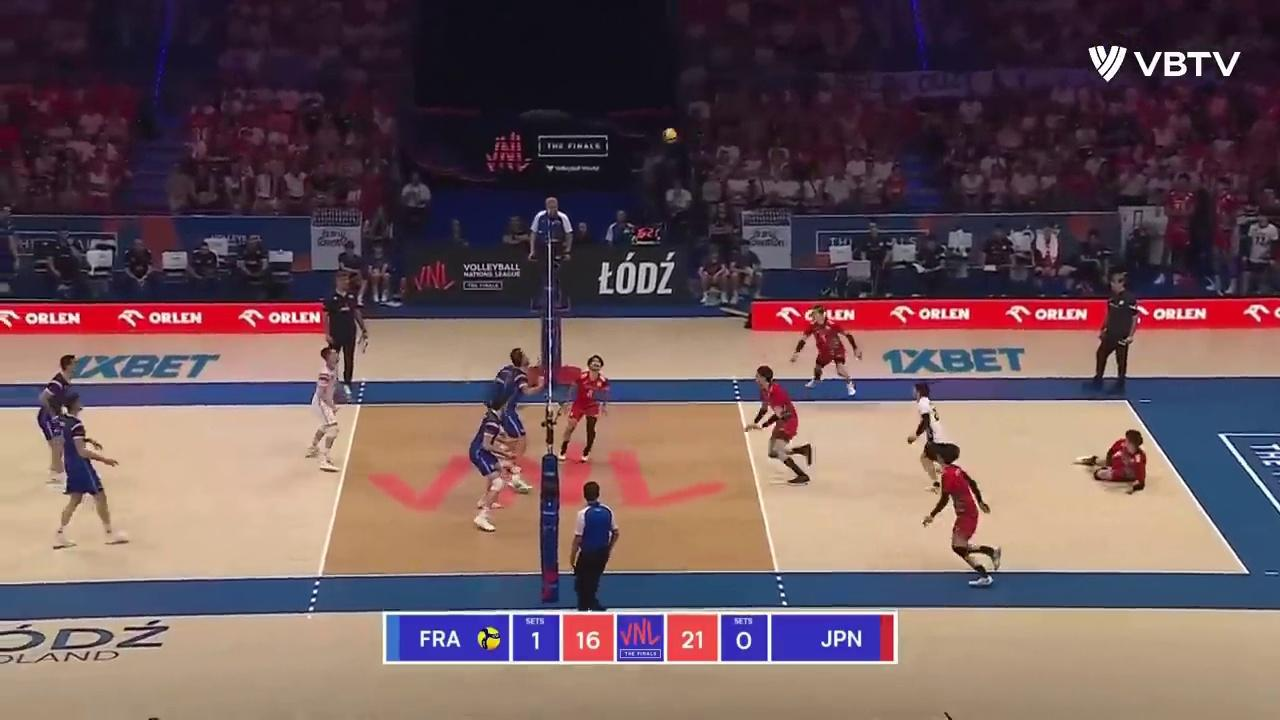ball: (663, 129, 677, 143)
